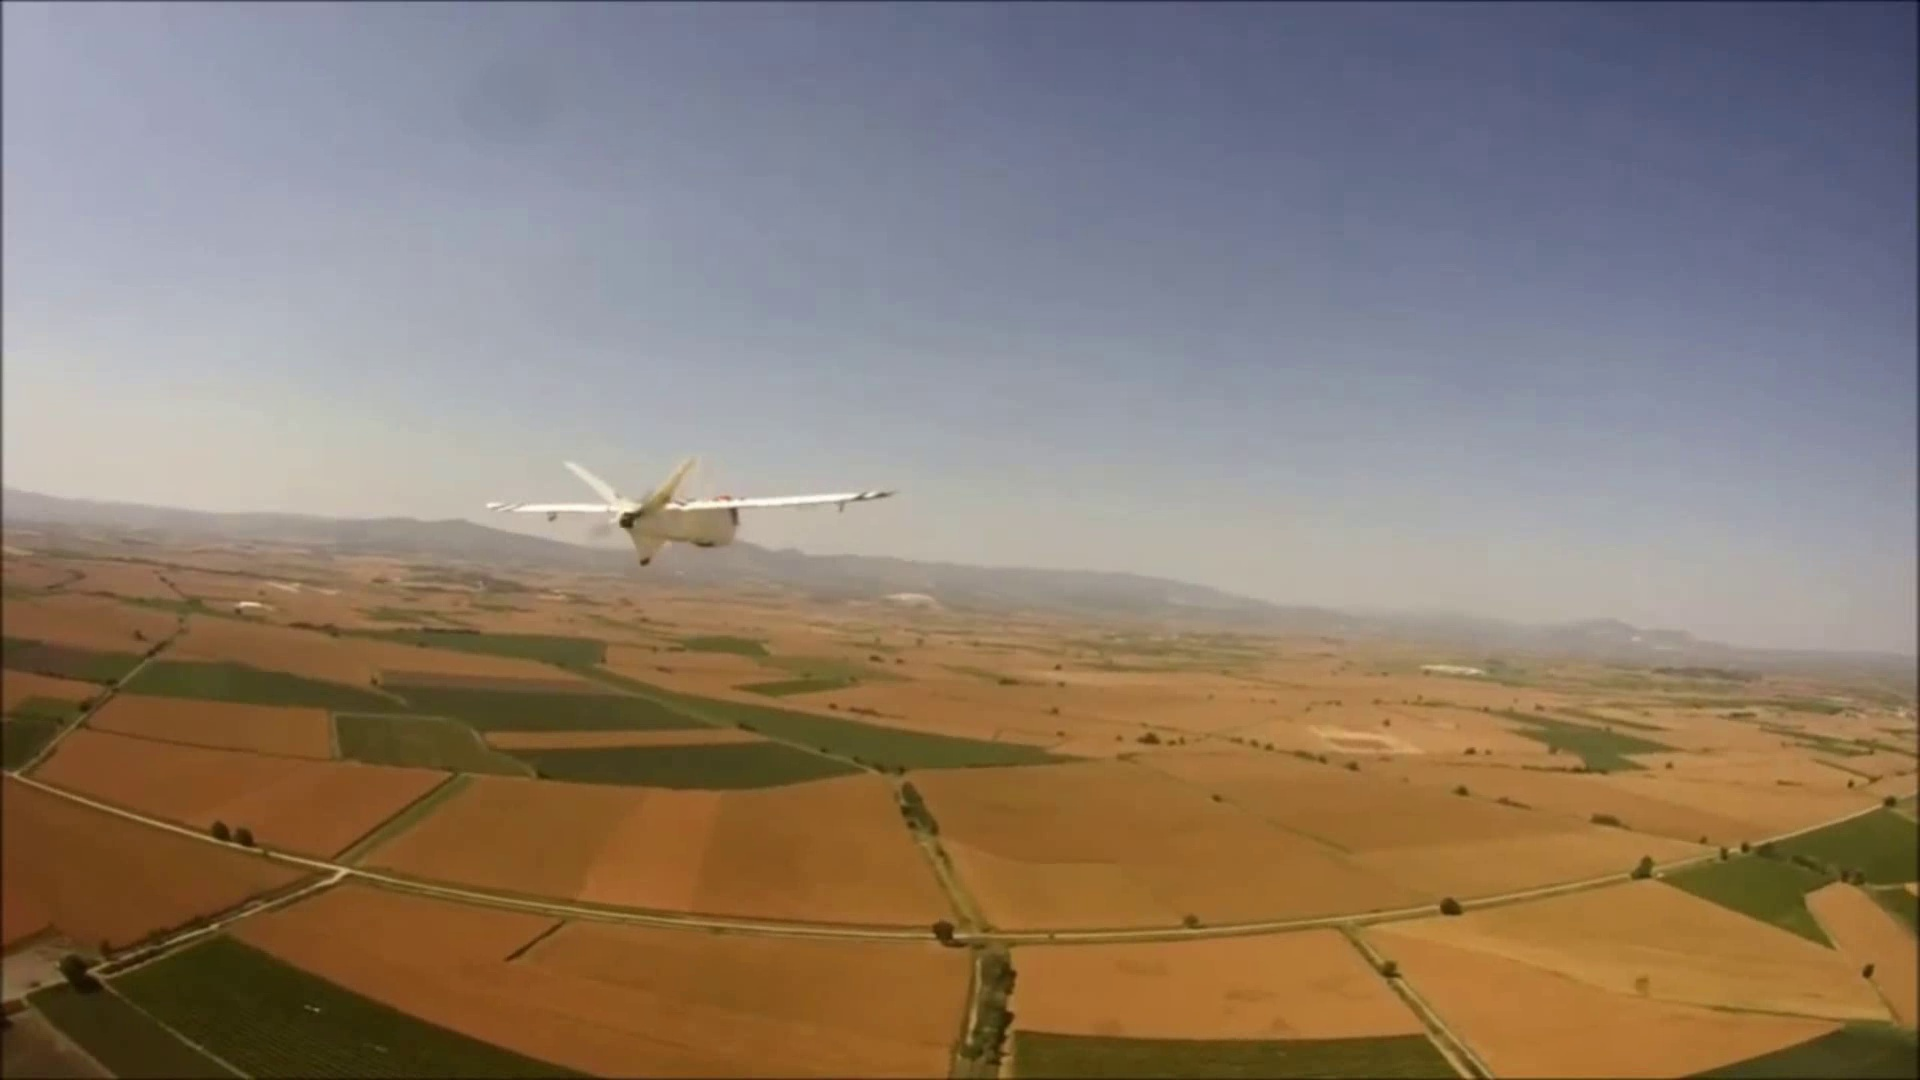airplane: (477, 454, 898, 568)
